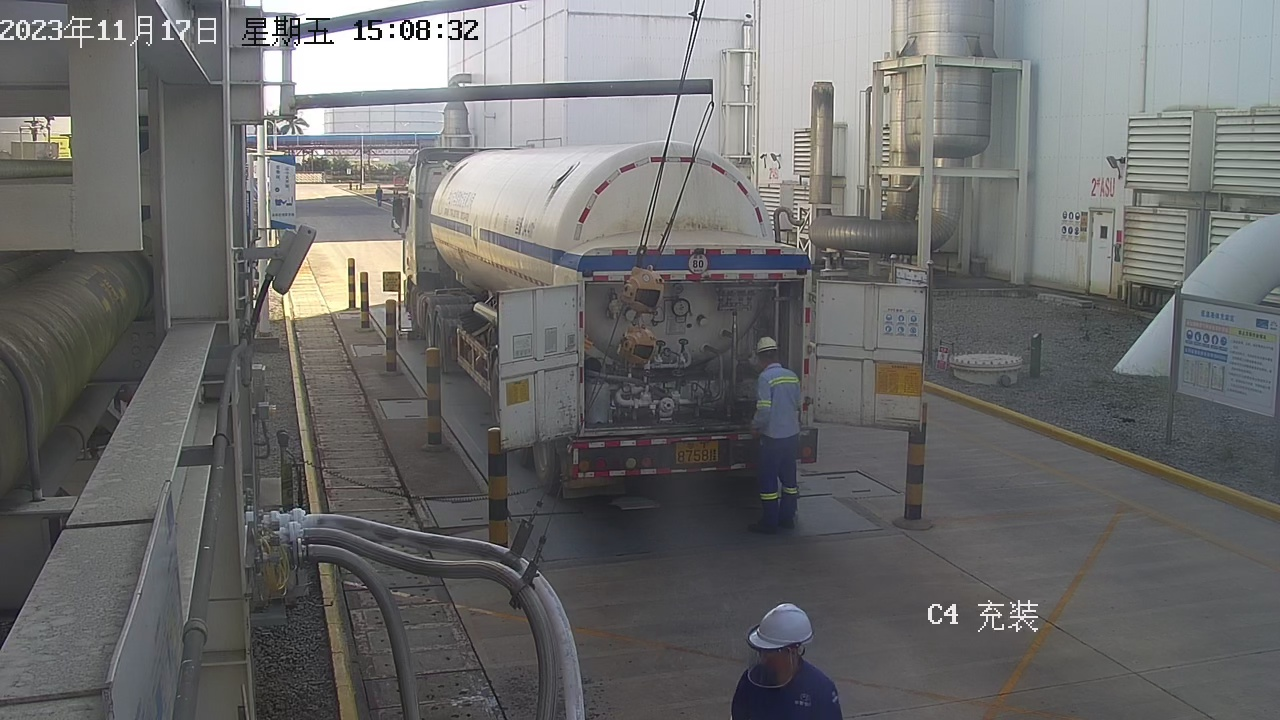Head_with_Helmet: (709, 590, 829, 692), (743, 328, 789, 370), (374, 183, 382, 190)
Uniform: (724, 355, 833, 543), (369, 188, 388, 209)
